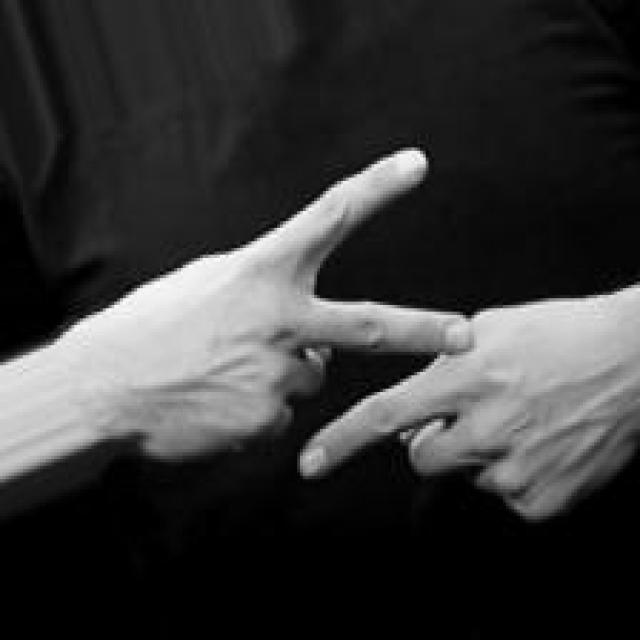Z: (136, 145, 640, 522)
